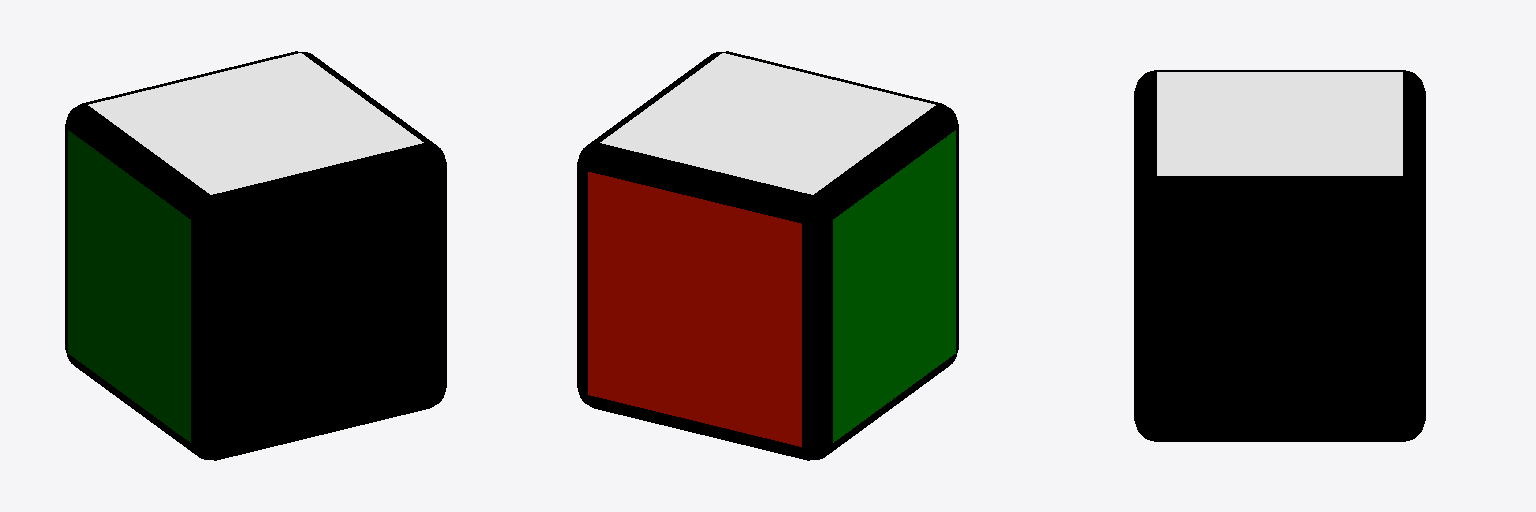
Rendered from piece_011.obj.
3 renders of one model, left to right at view 1: azimuth 30°, elevation 25°; view 2: azimuth 150°, elevation 25°; view 3: azimuth 270°, elevation 25°, orthographic.
Parts seen in each view (by area): view 1: Cube.010_Cube.011; view 2: Cube.010_Cube.011; view 3: Cube.010_Cube.011.
Boxes of the visible parts, <box> form: Cube.010_Cube.011: <box>65,51,446,460</box>; Cube.010_Cube.011: <box>577,51,958,460</box>; Cube.010_Cube.011: <box>1134,70,1425,441</box>.
Size of the model in its own units: 2 by 2 by 2.